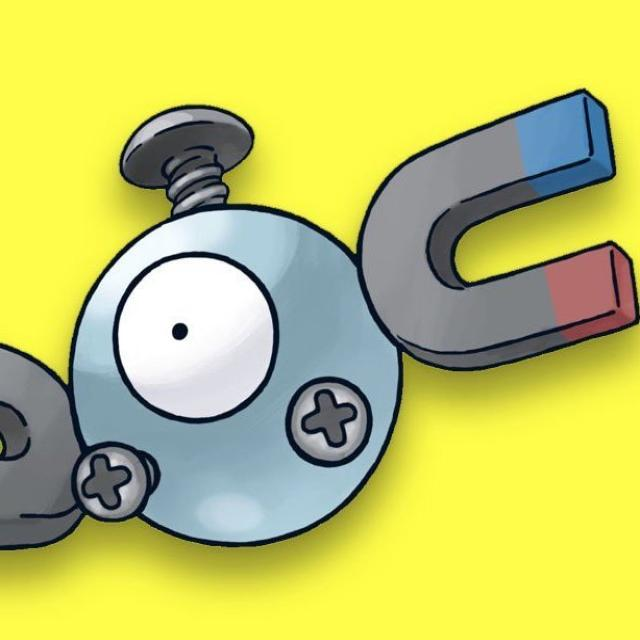Magnemite: (0, 64, 637, 588)
